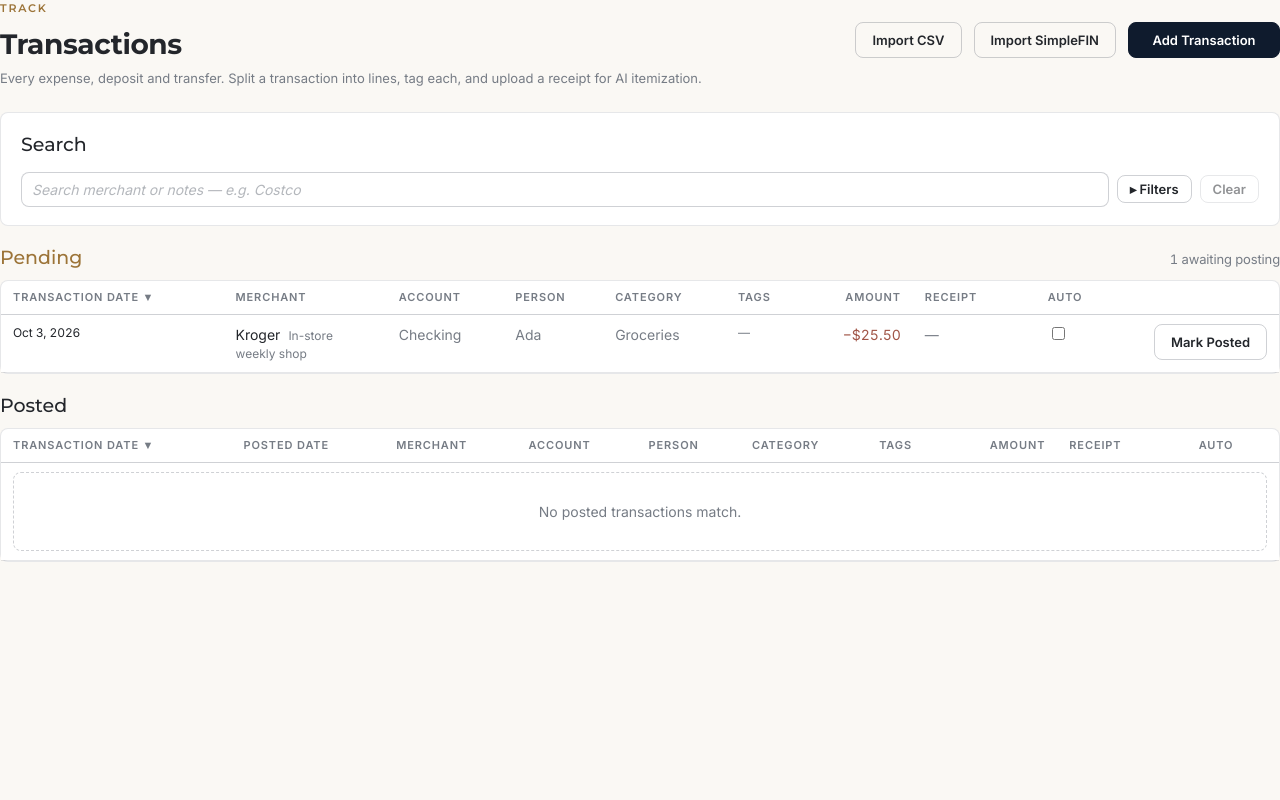
Transactions page › Mark Posted moves a weekend purchase date to Monday, and can be cancelled
Click the button "Mark Posted" at (1210, 342), box [1154, 324, 1267, 360]
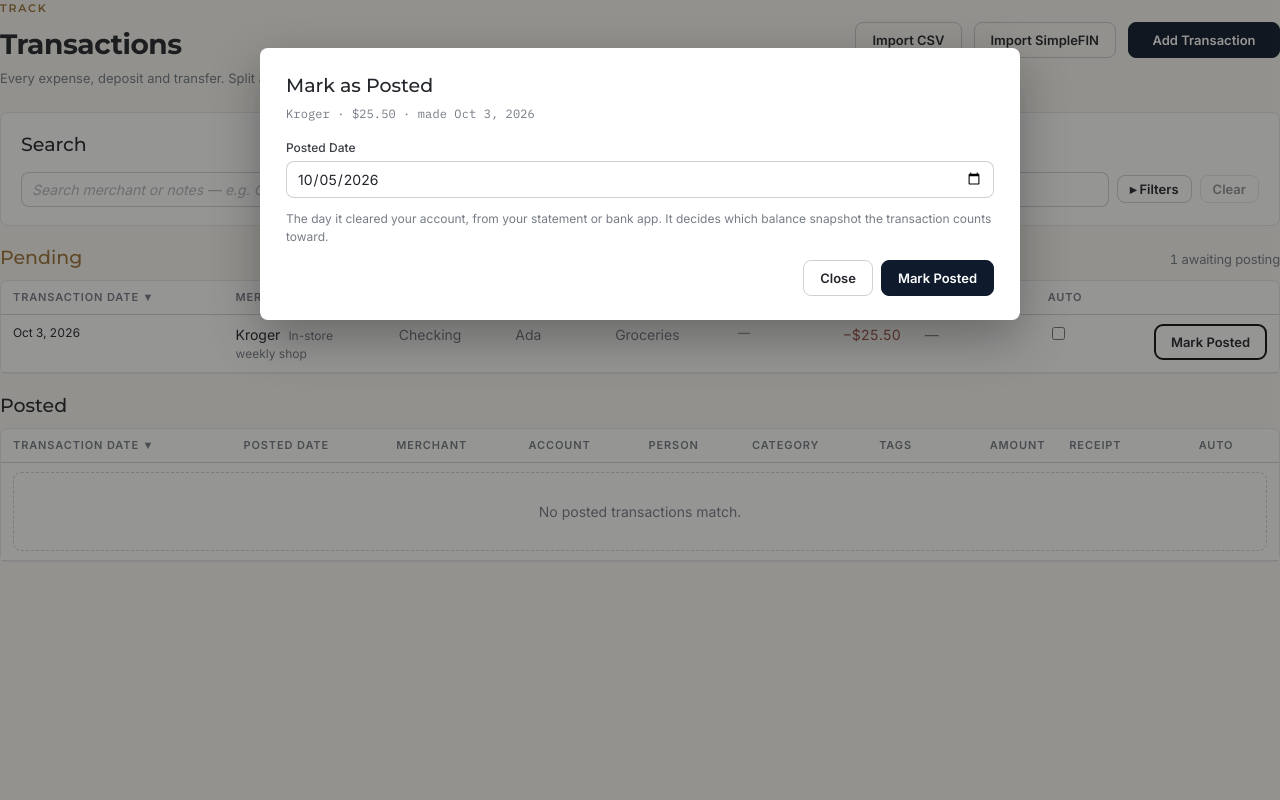
Result: the date field labelled "Posted Date" holds "2026-10-05" at [286, 160, 994, 198]
Click the button "Close" at (838, 278), box [803, 260, 873, 296]
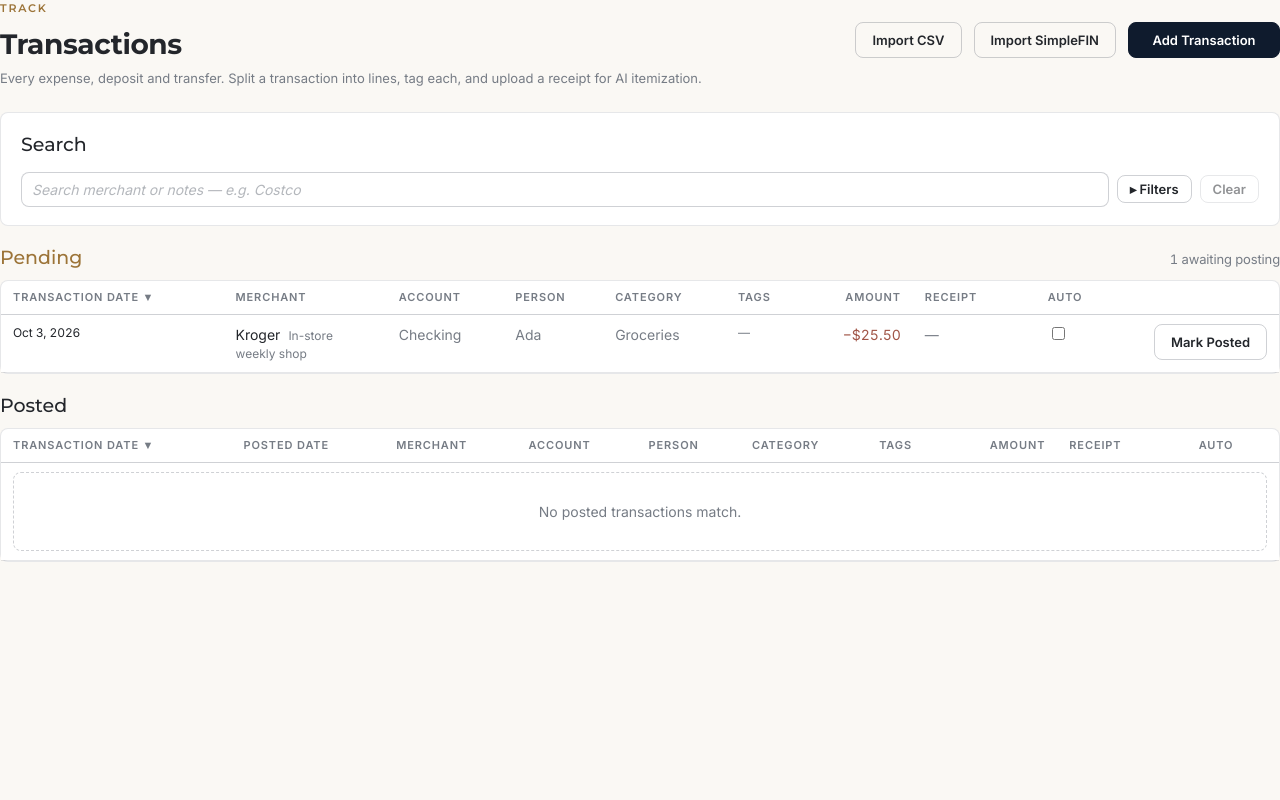
Result: the element with class "modal" is gone
